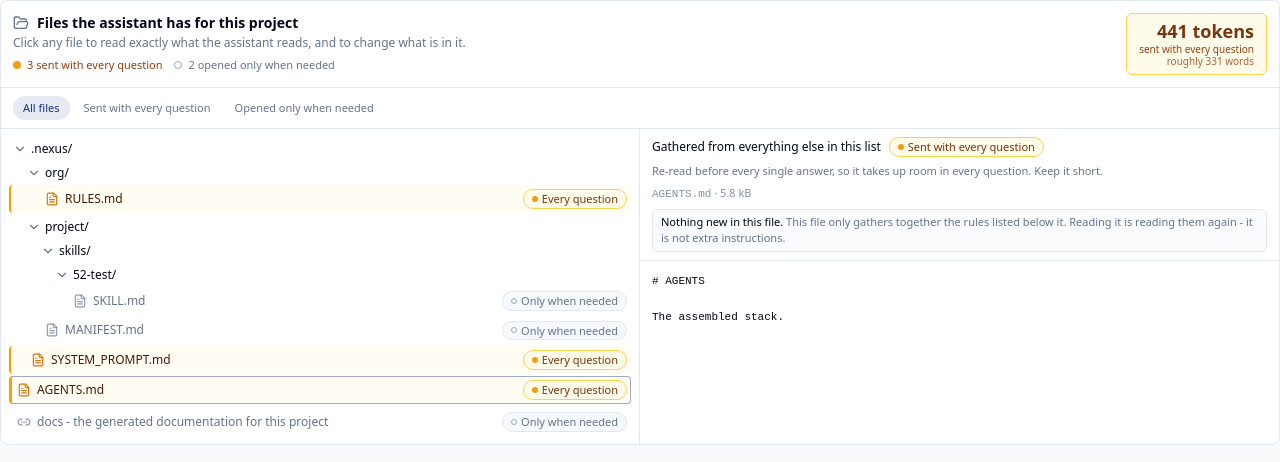
Scenario: WorkspaceTree › shows a file's content and where it came from when it is selected
The image size is (1280, 462).
expect the text with test id "workspace-viewer-content" shows "The assembled stack.": met, box top-left (652, 275), bottom-right (784, 323)
Click the button "SKILL.md Only when needed": x=119, y=300 top-left (9, 287), bottom-right (631, 315)
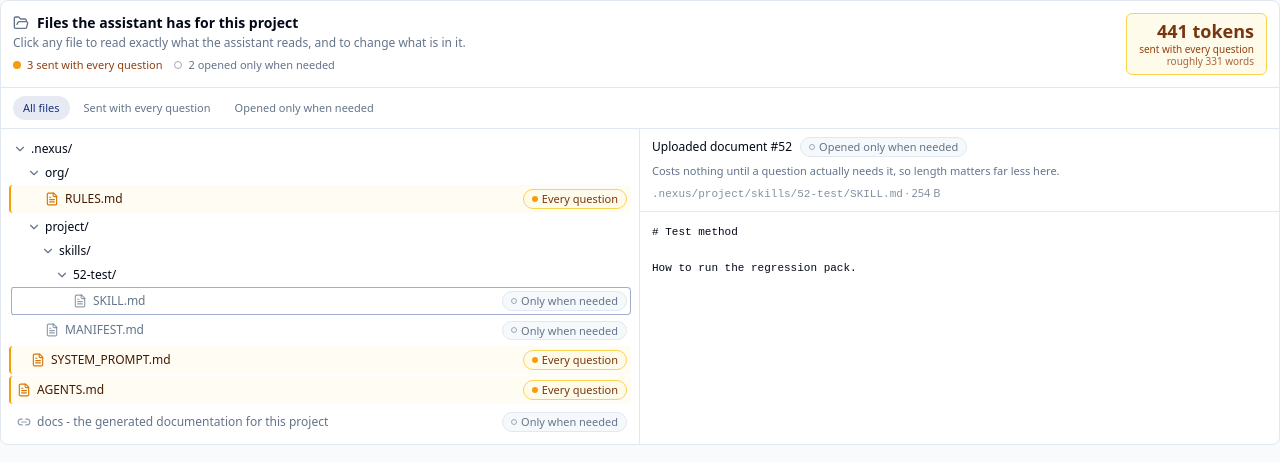
expect the text with test id "workspace-viewer-content" shows "How to run the regression pack.": met, box top-left (652, 226), bottom-right (857, 274)
expect the text with test id "workspace-viewer-origin" reads "Uploaded document #52": met, box top-left (652, 138), bottom-right (792, 155)
expect the text with test id "workspace-viewer-path" reads ".nexus/project/skills/52-test/SKILL.md": met, box top-left (652, 188), bottom-right (903, 200)
